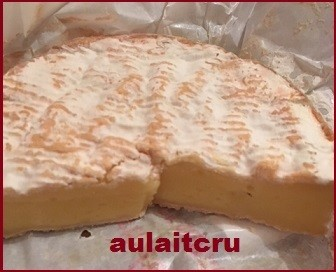camembert: (3, 33, 332, 238)
